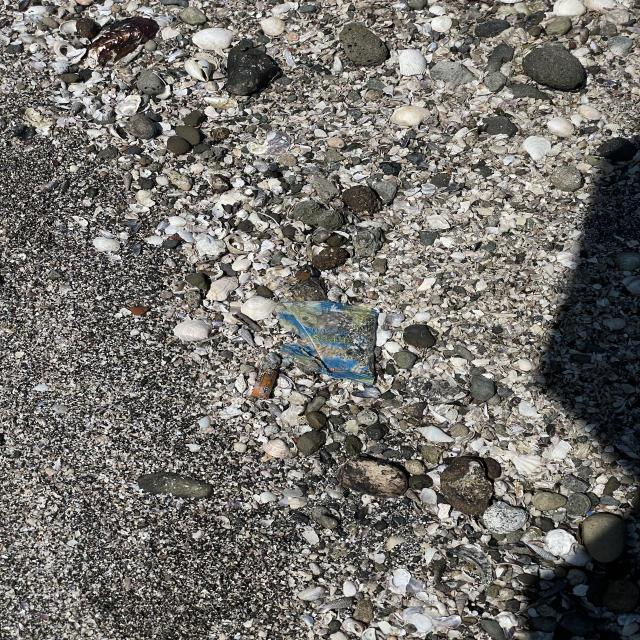plastic_waste: (277, 301, 381, 385)
